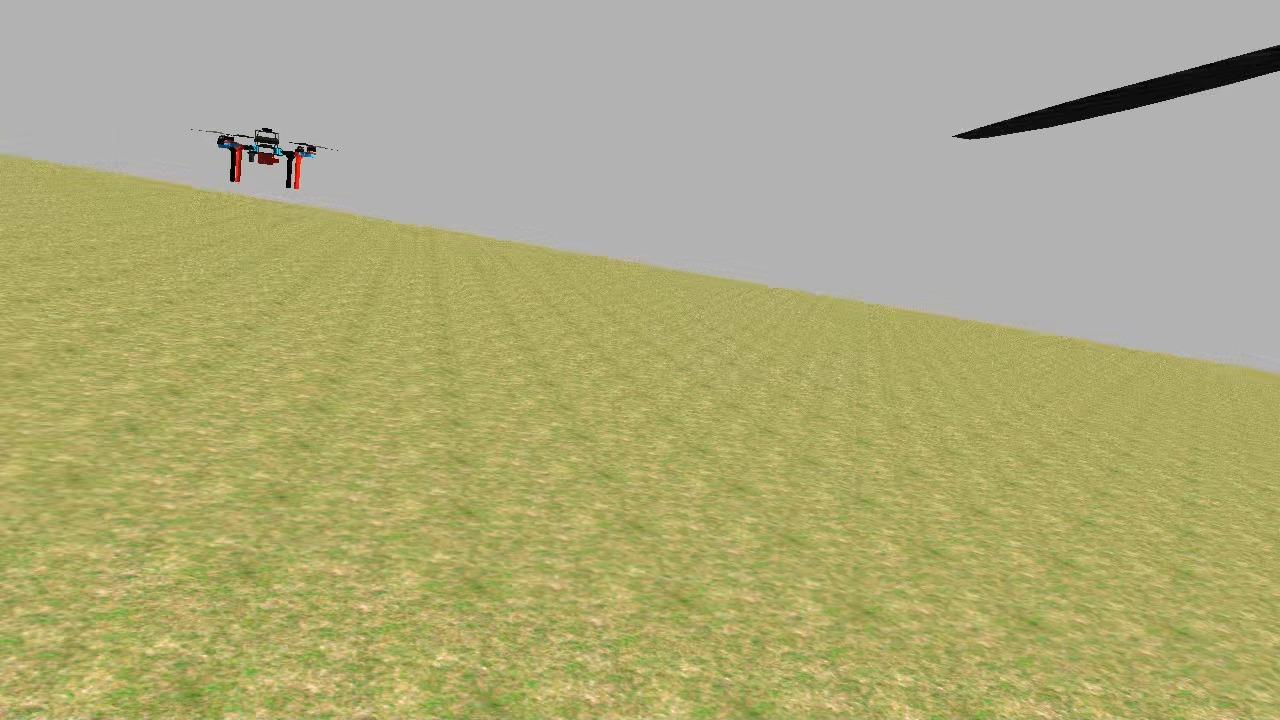UAV: (212, 116, 326, 194)
